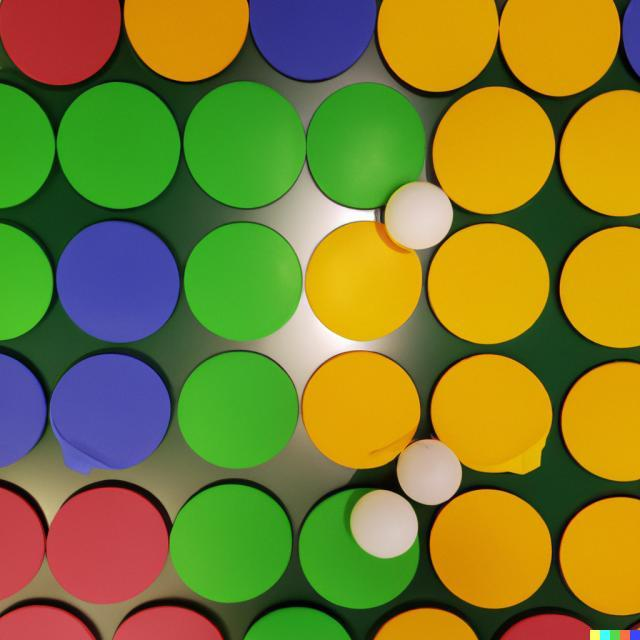white: (385, 182, 453, 250), (396, 440, 462, 505), (353, 492, 418, 558)
